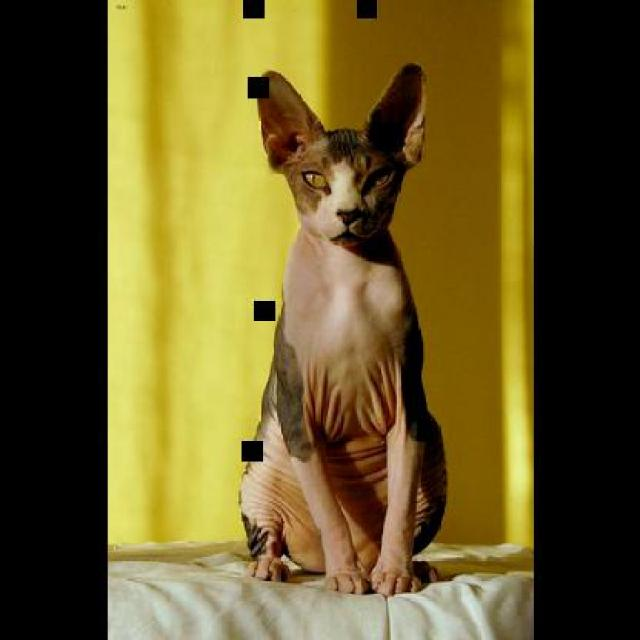unauthorized: (237, 60, 448, 595)
